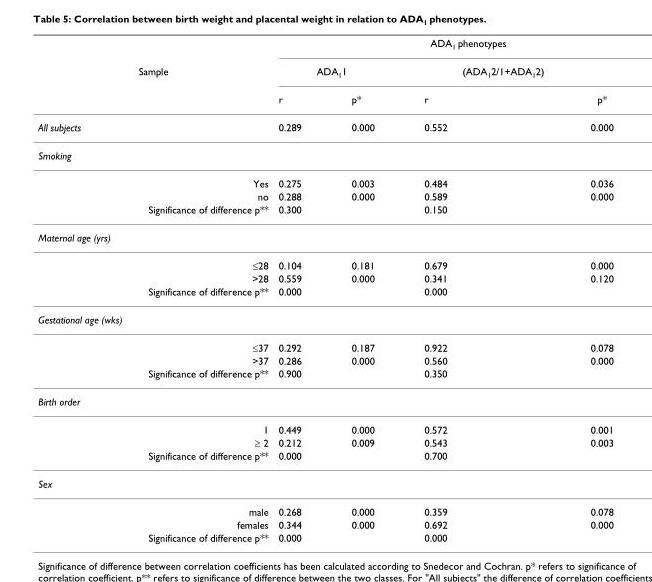table: (37, 36, 612, 543)
table column: (37, 36, 272, 543), (398, 36, 518, 543), (518, 36, 612, 543), (325, 36, 398, 543), (272, 36, 325, 543)
table column header: (37, 36, 612, 112)
table projected row header: (37, 140, 612, 168), (37, 222, 612, 250), (37, 304, 612, 332), (37, 387, 612, 415), (37, 469, 612, 497)
table row: (37, 57, 612, 85), (37, 112, 612, 140), (37, 140, 612, 168), (37, 222, 612, 250), (37, 304, 612, 332), (37, 387, 612, 415), (37, 469, 612, 497), (37, 85, 612, 112), (37, 36, 612, 57), (37, 168, 612, 189), (37, 250, 612, 271), (37, 332, 612, 353), (37, 366, 612, 387), (37, 448, 612, 469), (37, 202, 612, 222), (37, 284, 612, 304), (37, 415, 612, 435), (37, 497, 612, 517), (37, 189, 612, 202), (37, 271, 612, 284), (37, 353, 612, 366), (37, 435, 612, 448), (37, 517, 612, 530), (37, 530, 612, 543)
table spanning cell: (37, 36, 272, 112), (272, 36, 612, 57), (398, 57, 612, 85), (272, 57, 398, 85)
